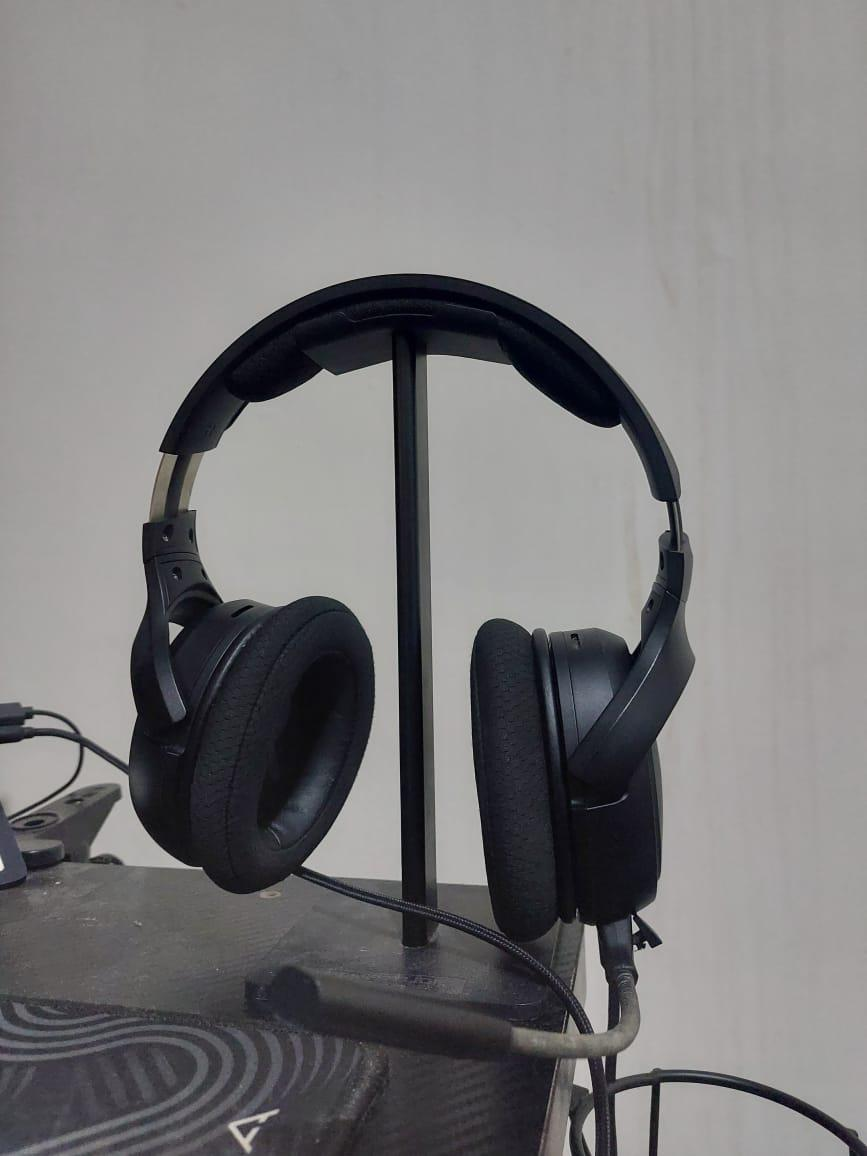Headset: (108, 268, 712, 1067)
